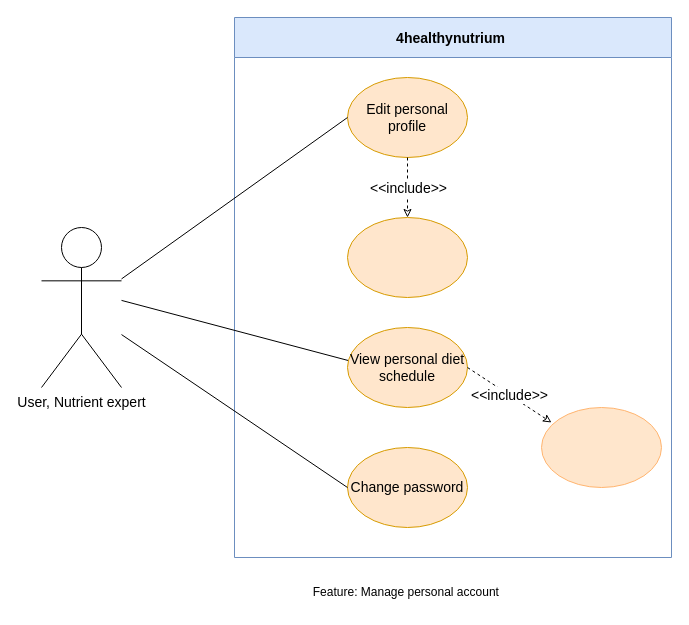
This 689x625 diagram has some shape labels left out. Here are the shapes that lost their labels. From the top down, the box of each, then its label:
(346, 216, 468, 298): View personal profile
(540, 406, 662, 488): View diet detail
